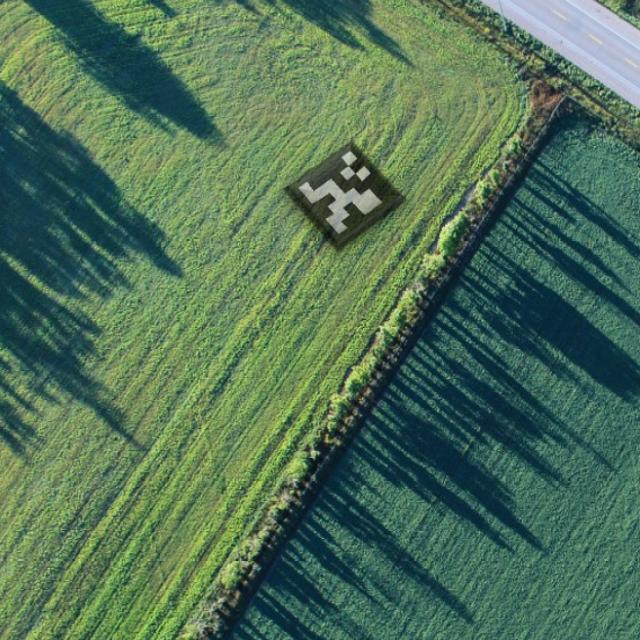marker: (280, 134, 415, 256)
